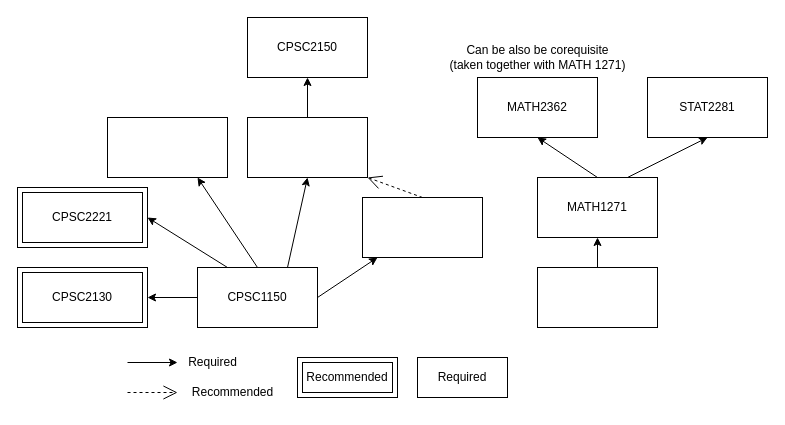
The diagram is 785 pixels wide and 425 high, and some of its shapes have lost their labels. The shapes that lost their labels are listed below. From the top down, each one's centre as x and y in pixels, then its label:
the point at 167,147: CPSC2190
the point at 307,147: CPSC1160
the point at 422,227: CPSC1181
the point at 597,297: MATH1171
